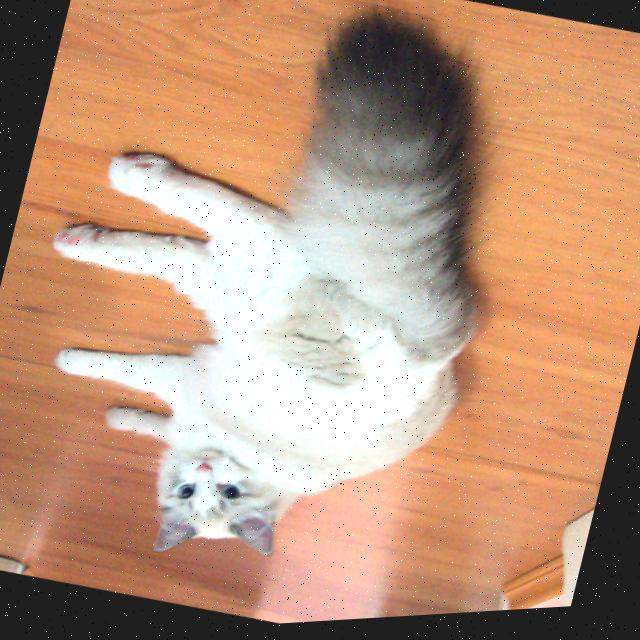Ragdoll: (0, 0, 554, 628)
